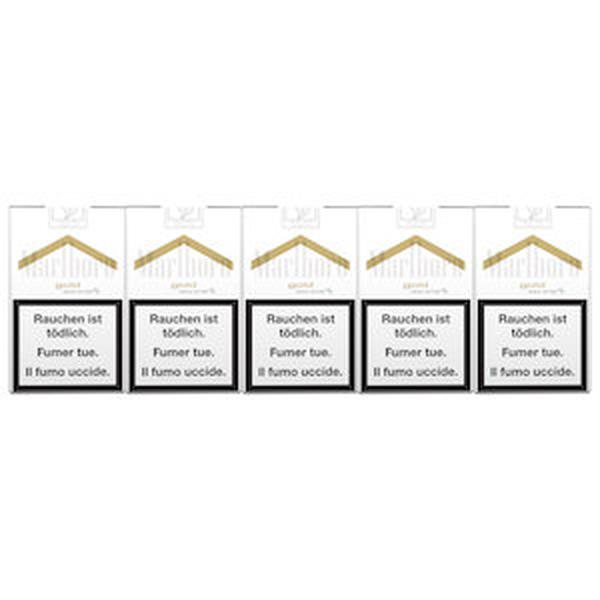marlboro_gold: (123, 207, 240, 394), (8, 209, 125, 394), (245, 207, 358, 394), (358, 209, 472, 392), (478, 209, 585, 392)
